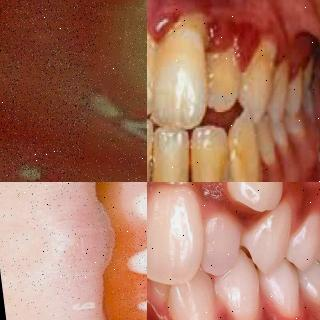Gum Swelling: (0, 46, 120, 182), (193, 2, 268, 59), (110, 221, 147, 320), (147, 0, 177, 47)
calculus: (241, 34, 275, 96), (208, 47, 246, 97), (217, 142, 261, 182), (190, 154, 226, 182), (155, 166, 195, 182)
maligned: (191, 204, 247, 274), (166, 263, 214, 320), (222, 182, 289, 218)
